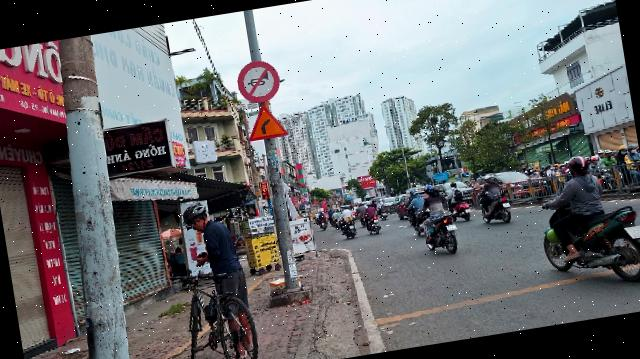cam-bop-coi: (234, 56, 282, 105)
cho-ngoat-nguy-hiem-ben-trai: (244, 99, 288, 142)
